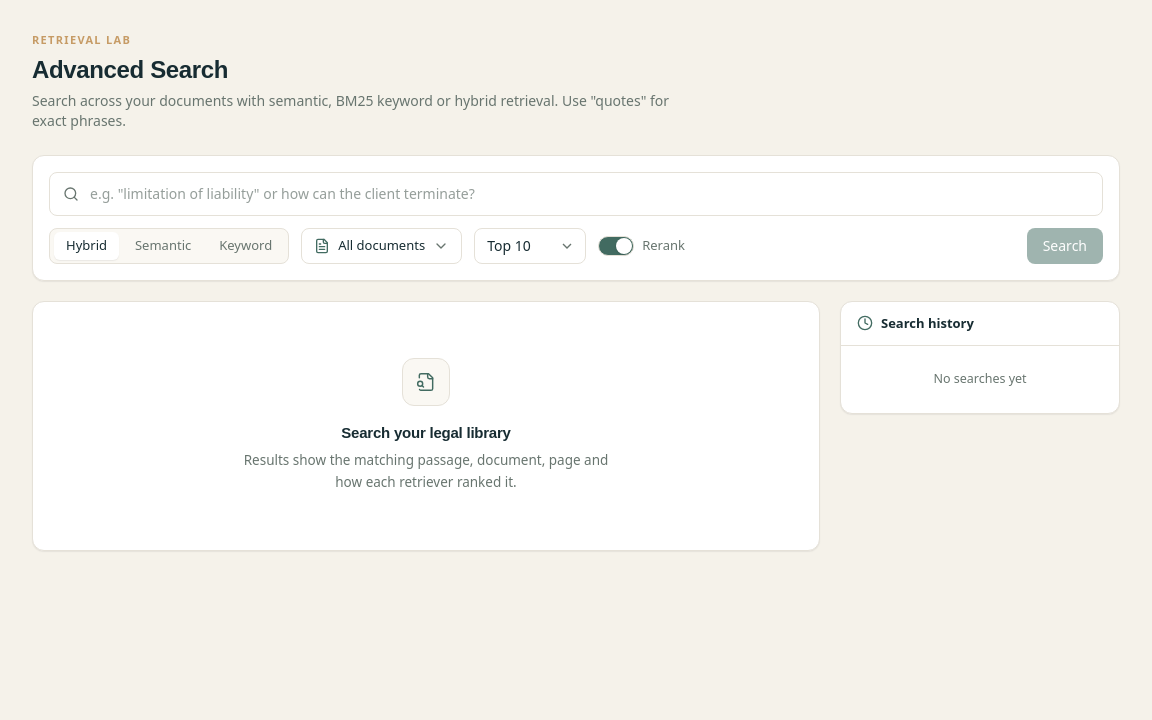
Test: Search › shows API errors
Type "x" into the field named "Search query" at point(576, 194), box [49,172,1103,216]
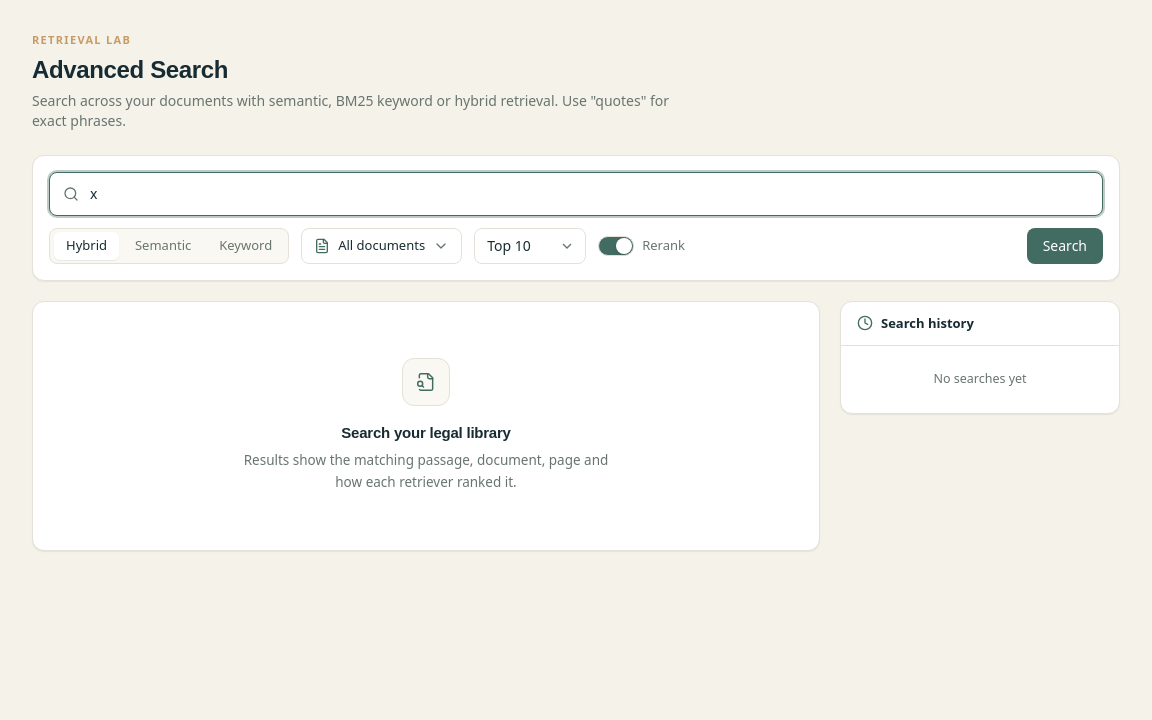
Click the button "Search" at point(1065, 246), box [1027,228,1103,264]
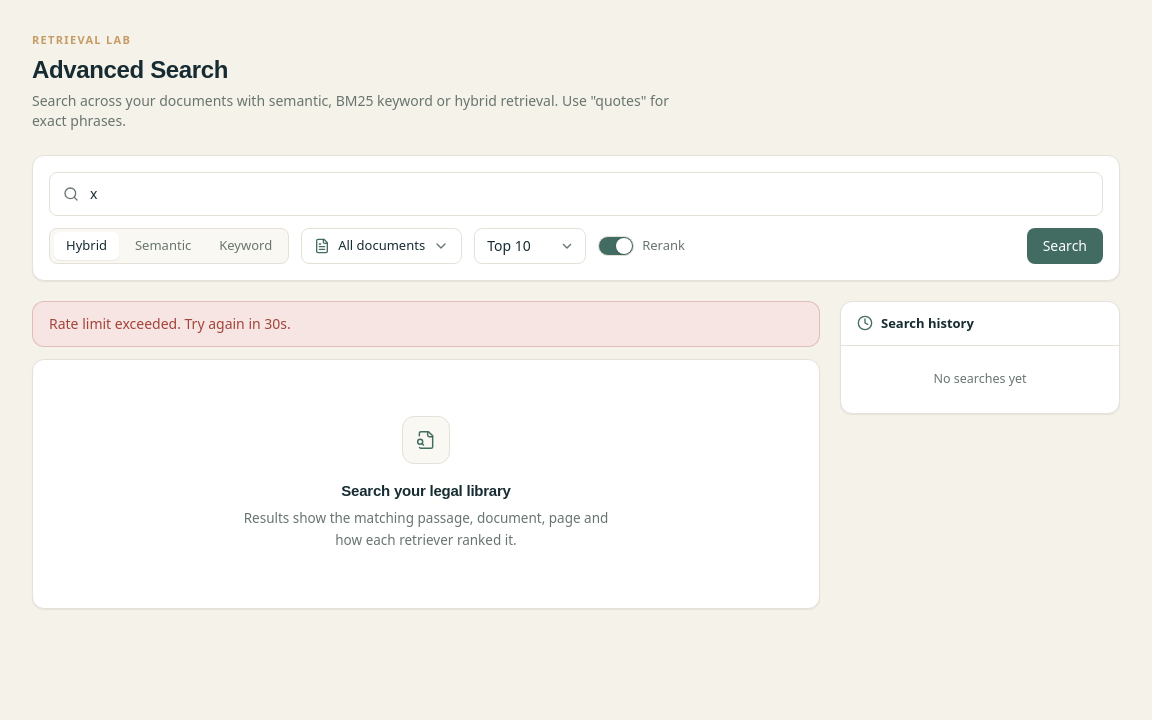
expect the message shows "Rate limit exceeded": met, box [49,314,291,332]
